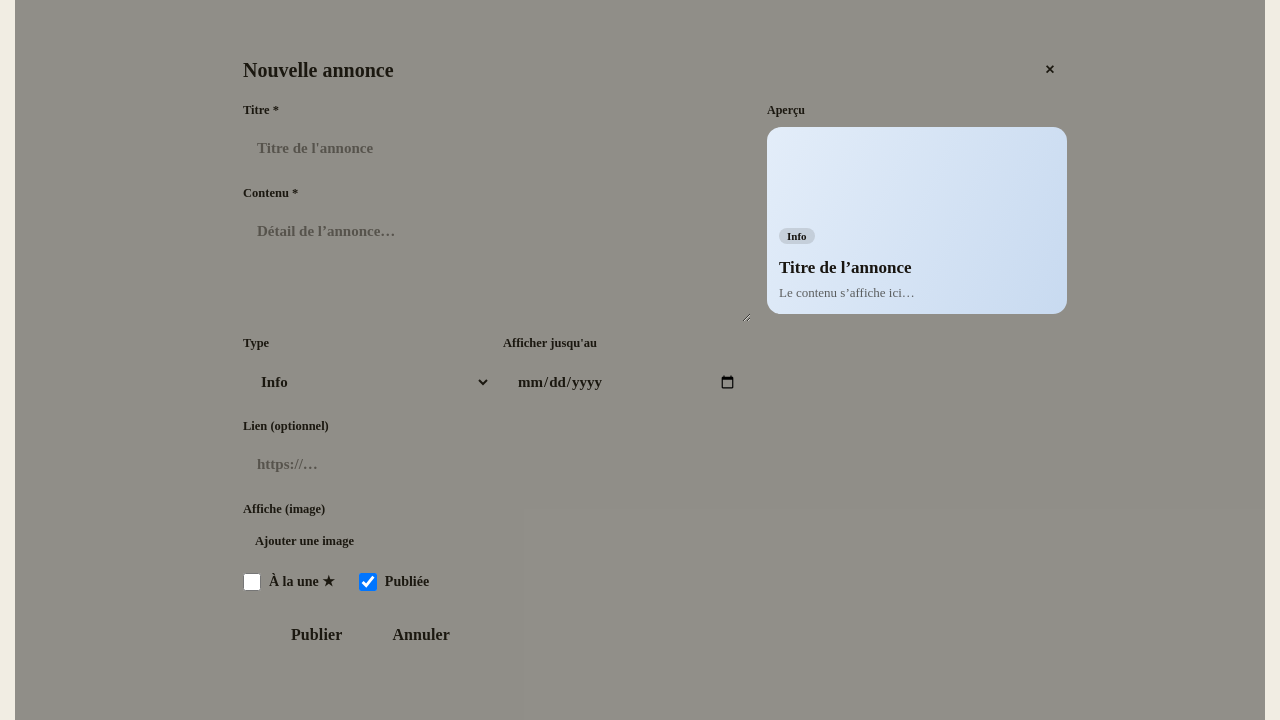
Test: AnnouncementStudio › validation : titre/contenu vides → message, pas d’appel
The image size is (1280, 720).
Click the button "Publier" at [303, 635], box [243, 608, 362, 662]
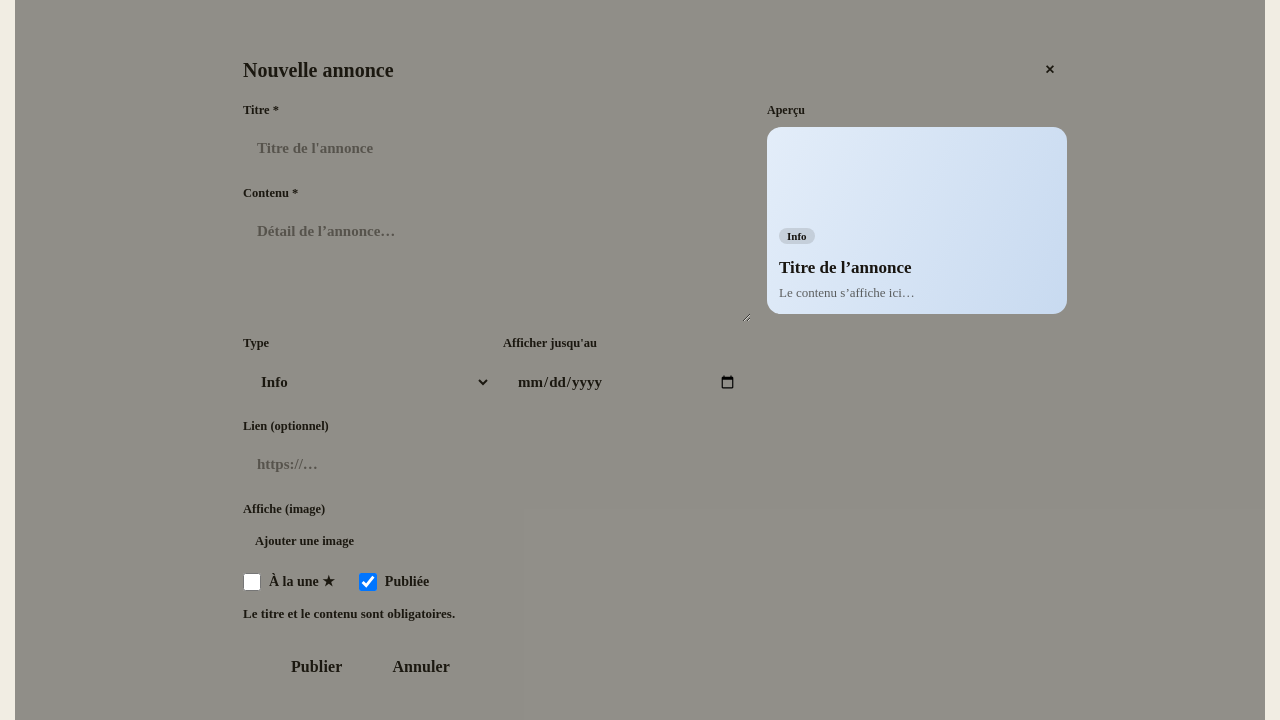
Expected: the message shows "obligatoires", [243, 606, 455, 621]
